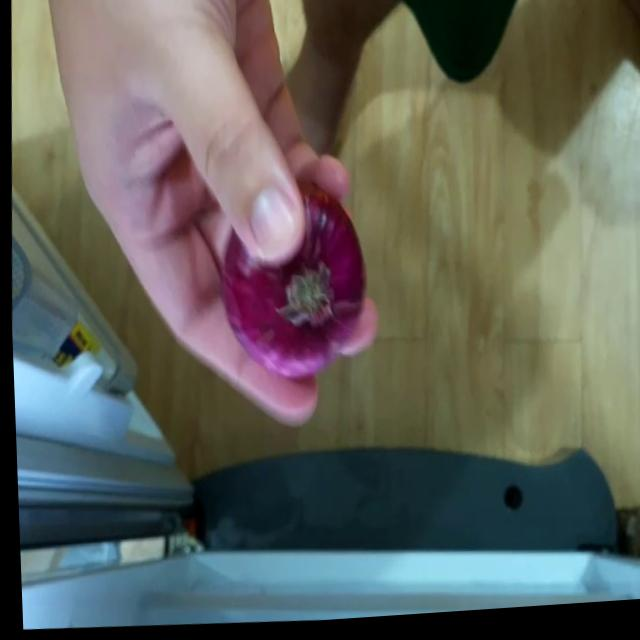onion: (205, 173, 371, 373)
